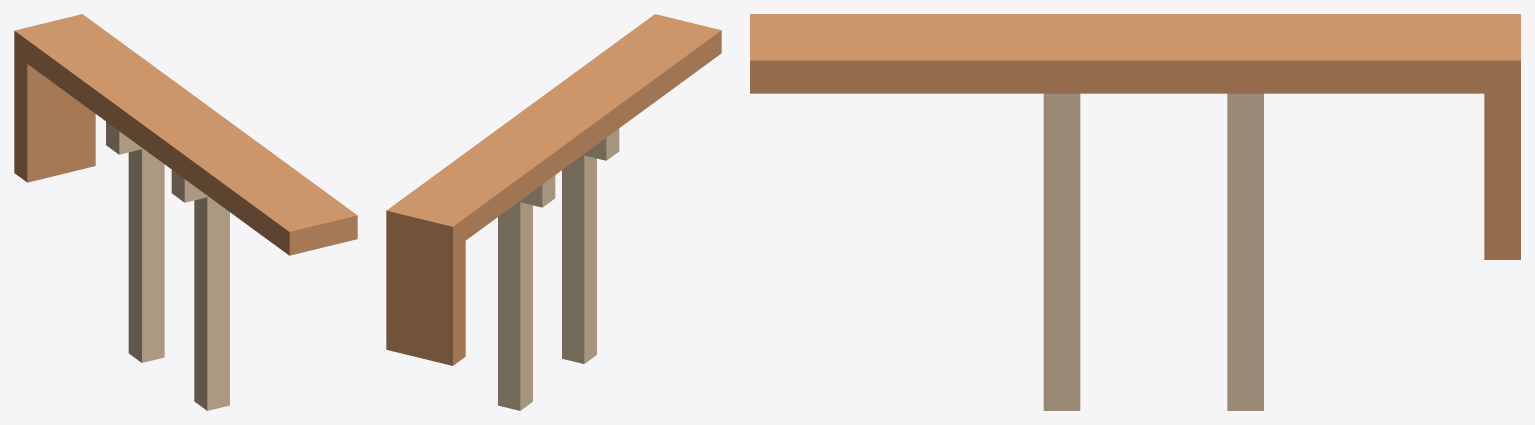
Rendered from Frame_011.dae.
The picture shows the model from 3 angles, left to right: view 1: azimuth 30°, elevation 25°; view 2: azimuth 150°, elevation 25°; view 3: azimuth 270°, elevation 25°; orthographic projection. The views are drawn at different scales.
Parts seen in each view (by area): view 1: Box_13; view 2: Box_13; view 3: Box_13.
Boxes of the visible parts, x1,y1,x2,y2 form: Box_13: (14,14,357,410); Box_13: (386,14,721,410); Box_13: (750,14,1520,410).
Size of the model in its own units: 3 by 11 by 21.
1 material, 1 textured.
